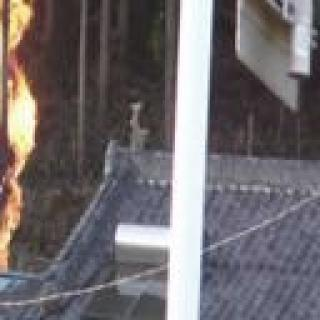fire: (0, 0, 36, 267)
